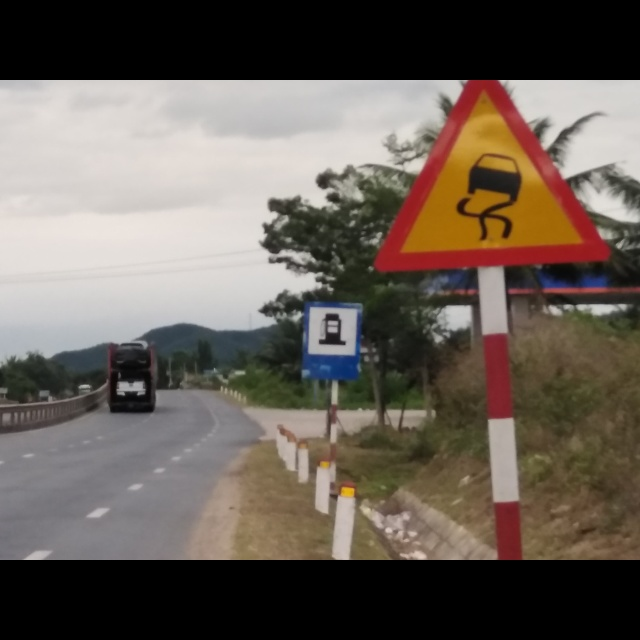Đường trơn trượt: (365, 80, 612, 275)
